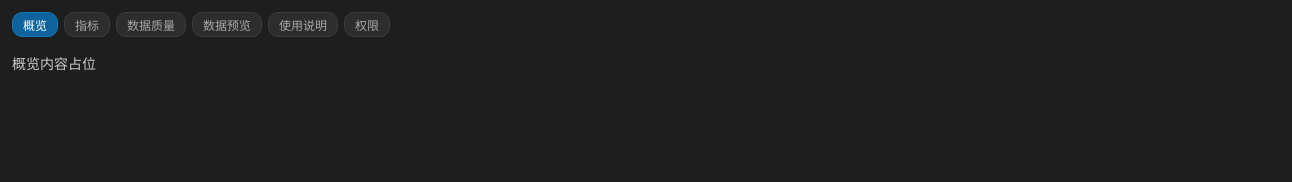
AssetDetailTabs 页签接线 › 数据预览按 preview 接口渲染列头
Click the tab "数据预览" at [227, 24], box [192,12,262,37]
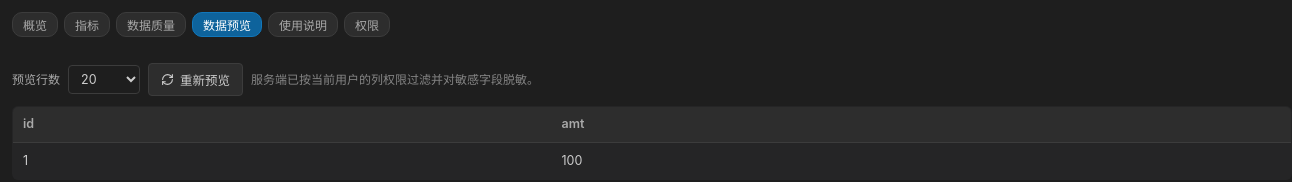
Expected: the column heading "amt" is shown, [552,106,1291,142]
